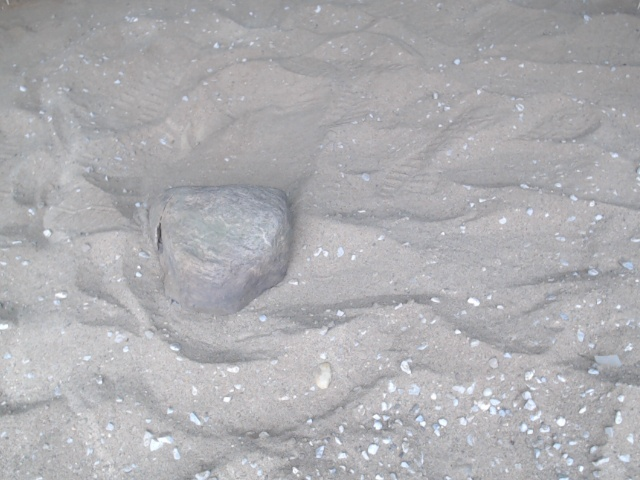rock: (132, 176, 297, 326)
